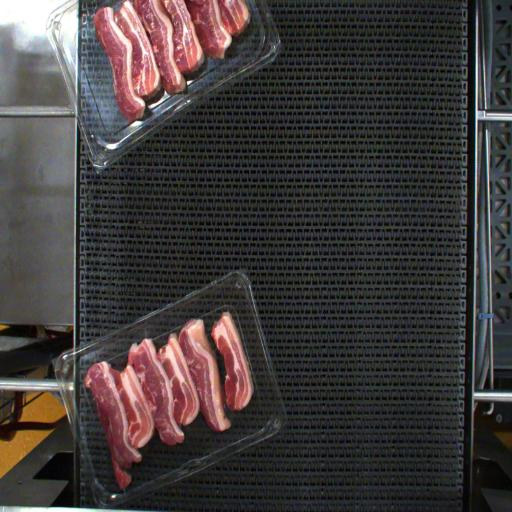loose-meat: (219, 317, 256, 410)
